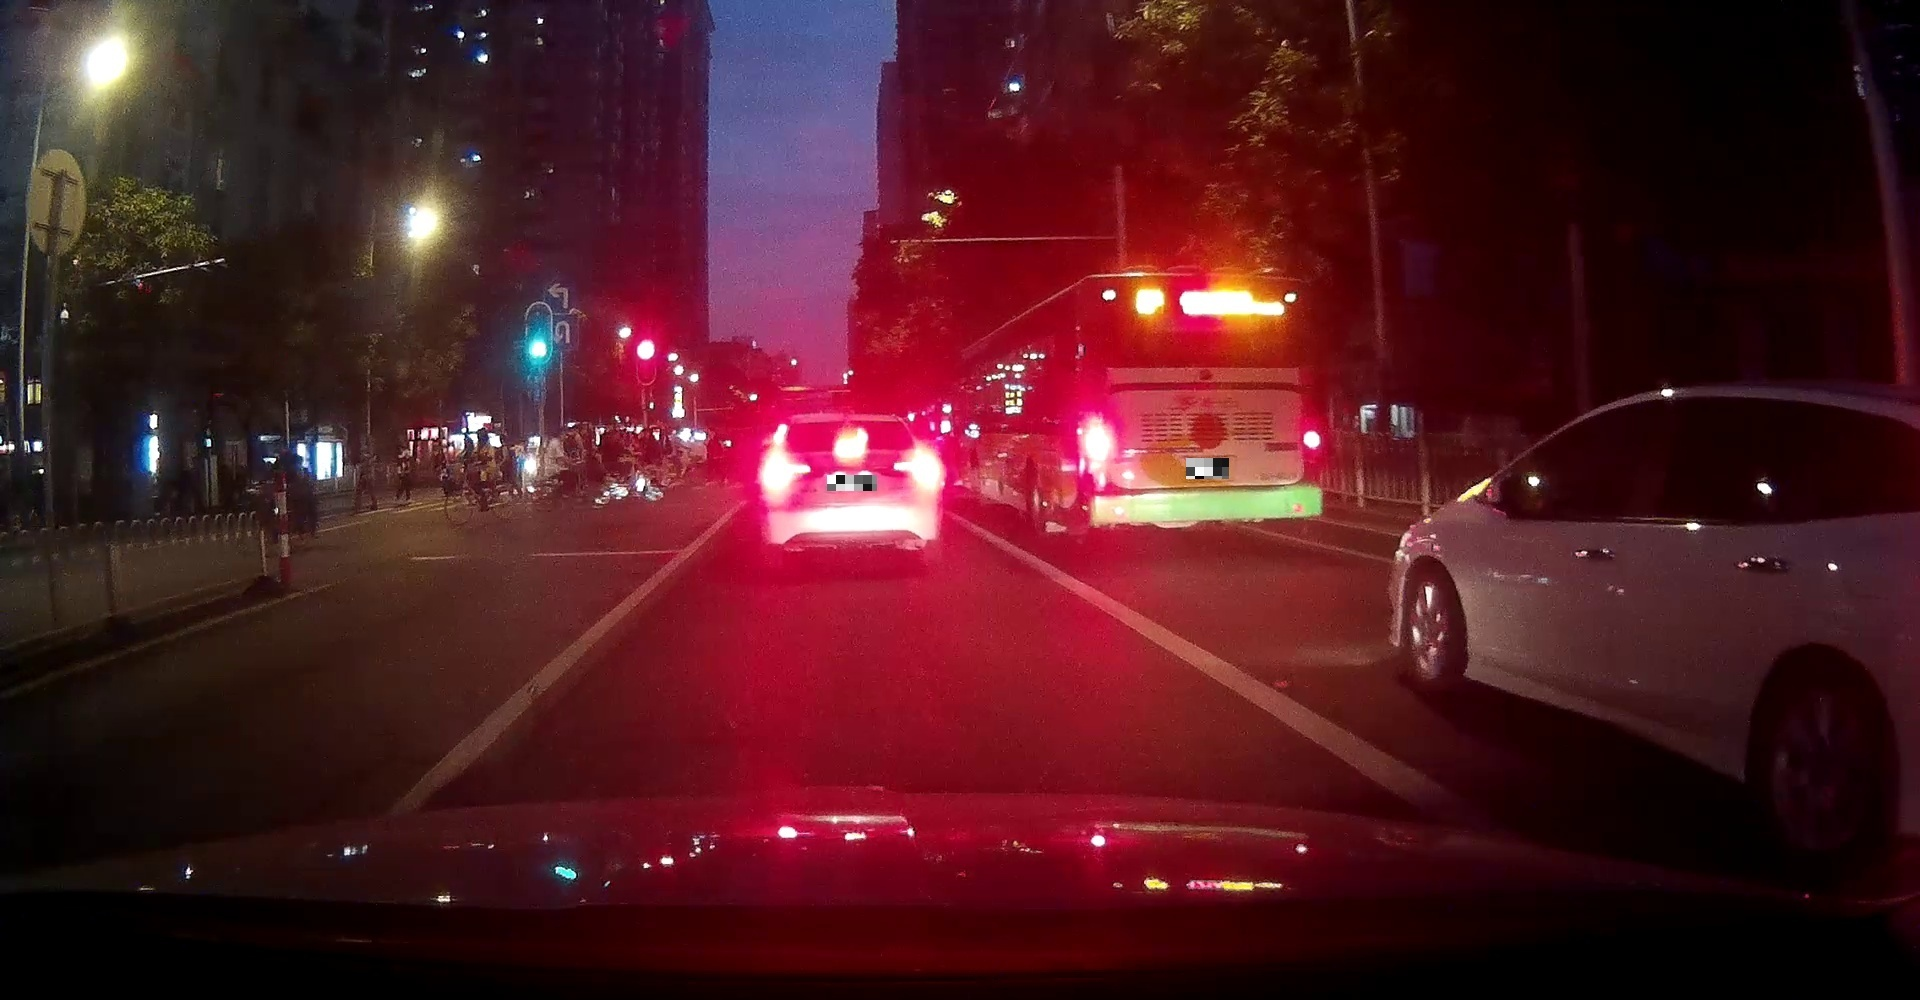L_light: (761, 462, 809, 489), (1083, 423, 1109, 463)
R_light: (894, 456, 940, 482), (1303, 430, 1321, 449)
T_light: (832, 442, 866, 456), (1194, 282, 1219, 291)
night-brake: (759, 415, 941, 563)
night-left: (1081, 274, 1322, 549)
plate_1: (827, 475, 877, 491)
plate_2: (1186, 458, 1229, 478)
